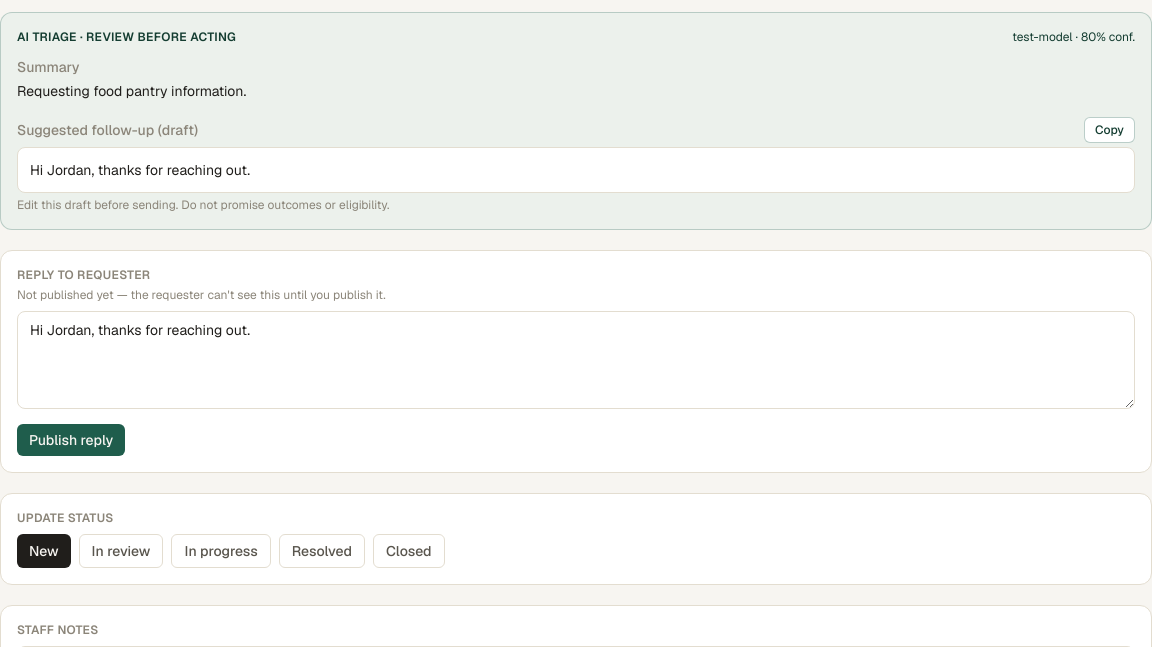
Scenario: SubmissionDetail › seeds the reply draft from the AI's suggested follow-up and publishes it
(page scrolled)
Replace the text in the text box with placeholder "Draft a reply the requester will see" with "Custom reply text.": (576, 360) [17,311,1135,409]
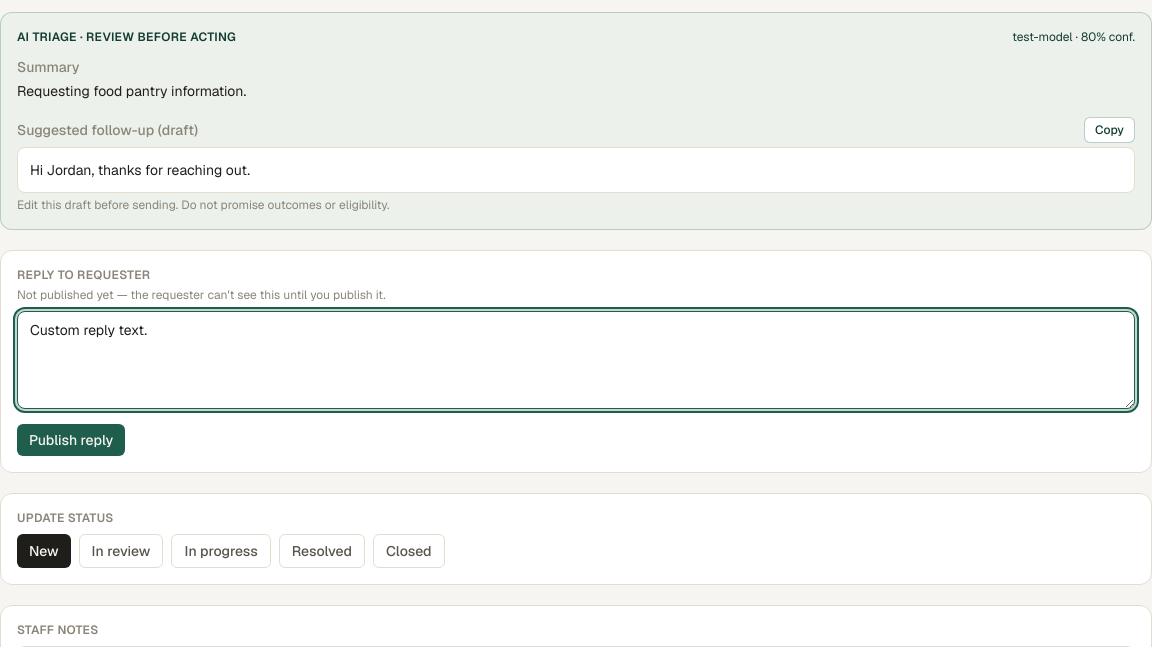
Click the button "Publish reply": (71, 440) [17,424,125,456]
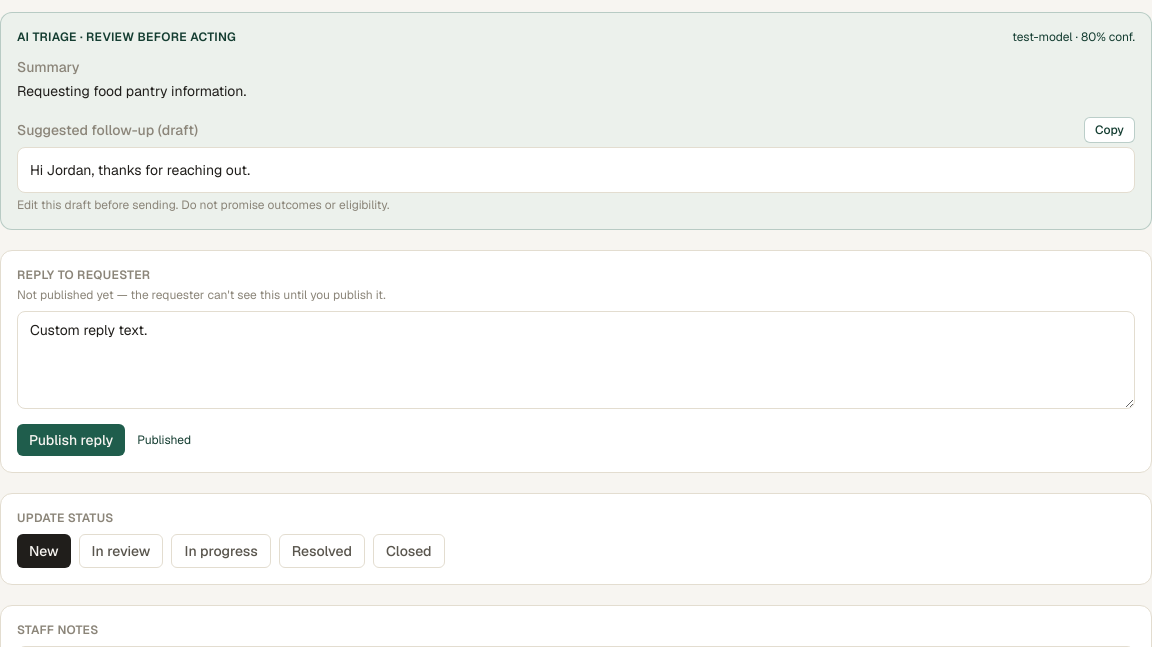
Check: the text "Published" is shown, box [137,432,191,448]
